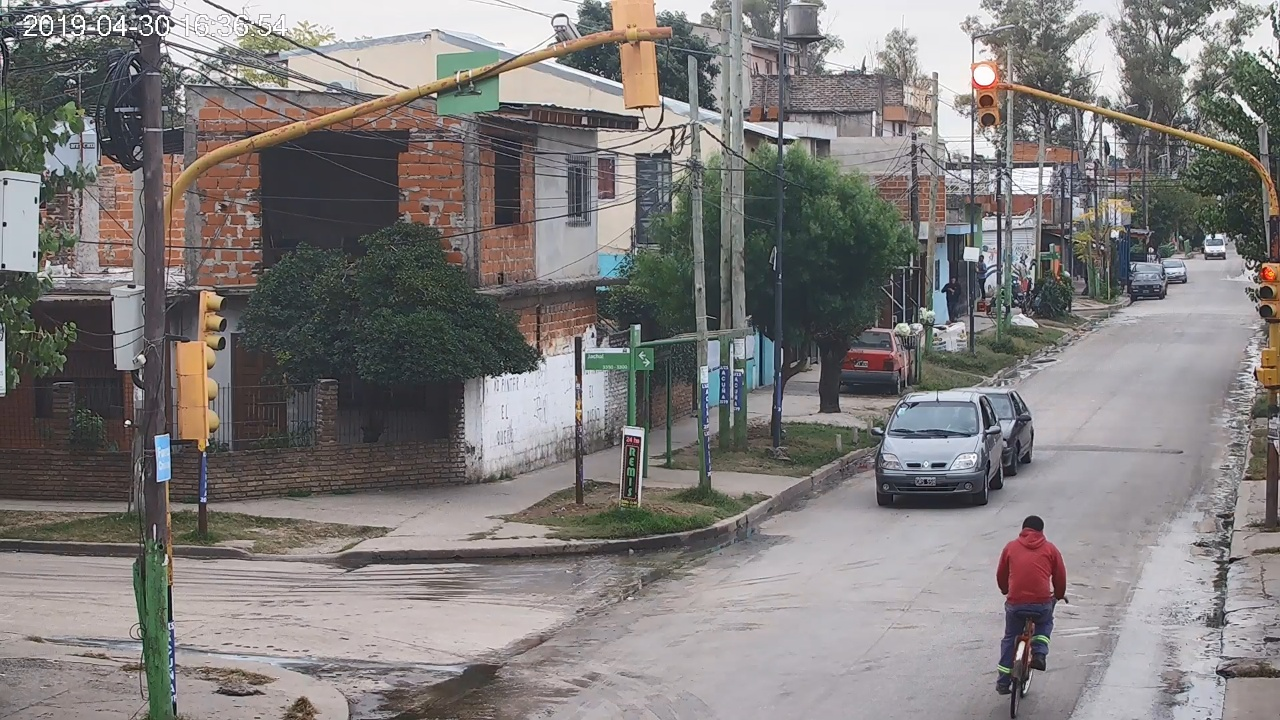bicycle: (996, 515, 1070, 720)
front car: (871, 392, 1003, 506)
traffic light: (975, 64, 998, 125), (1261, 264, 1279, 320)
